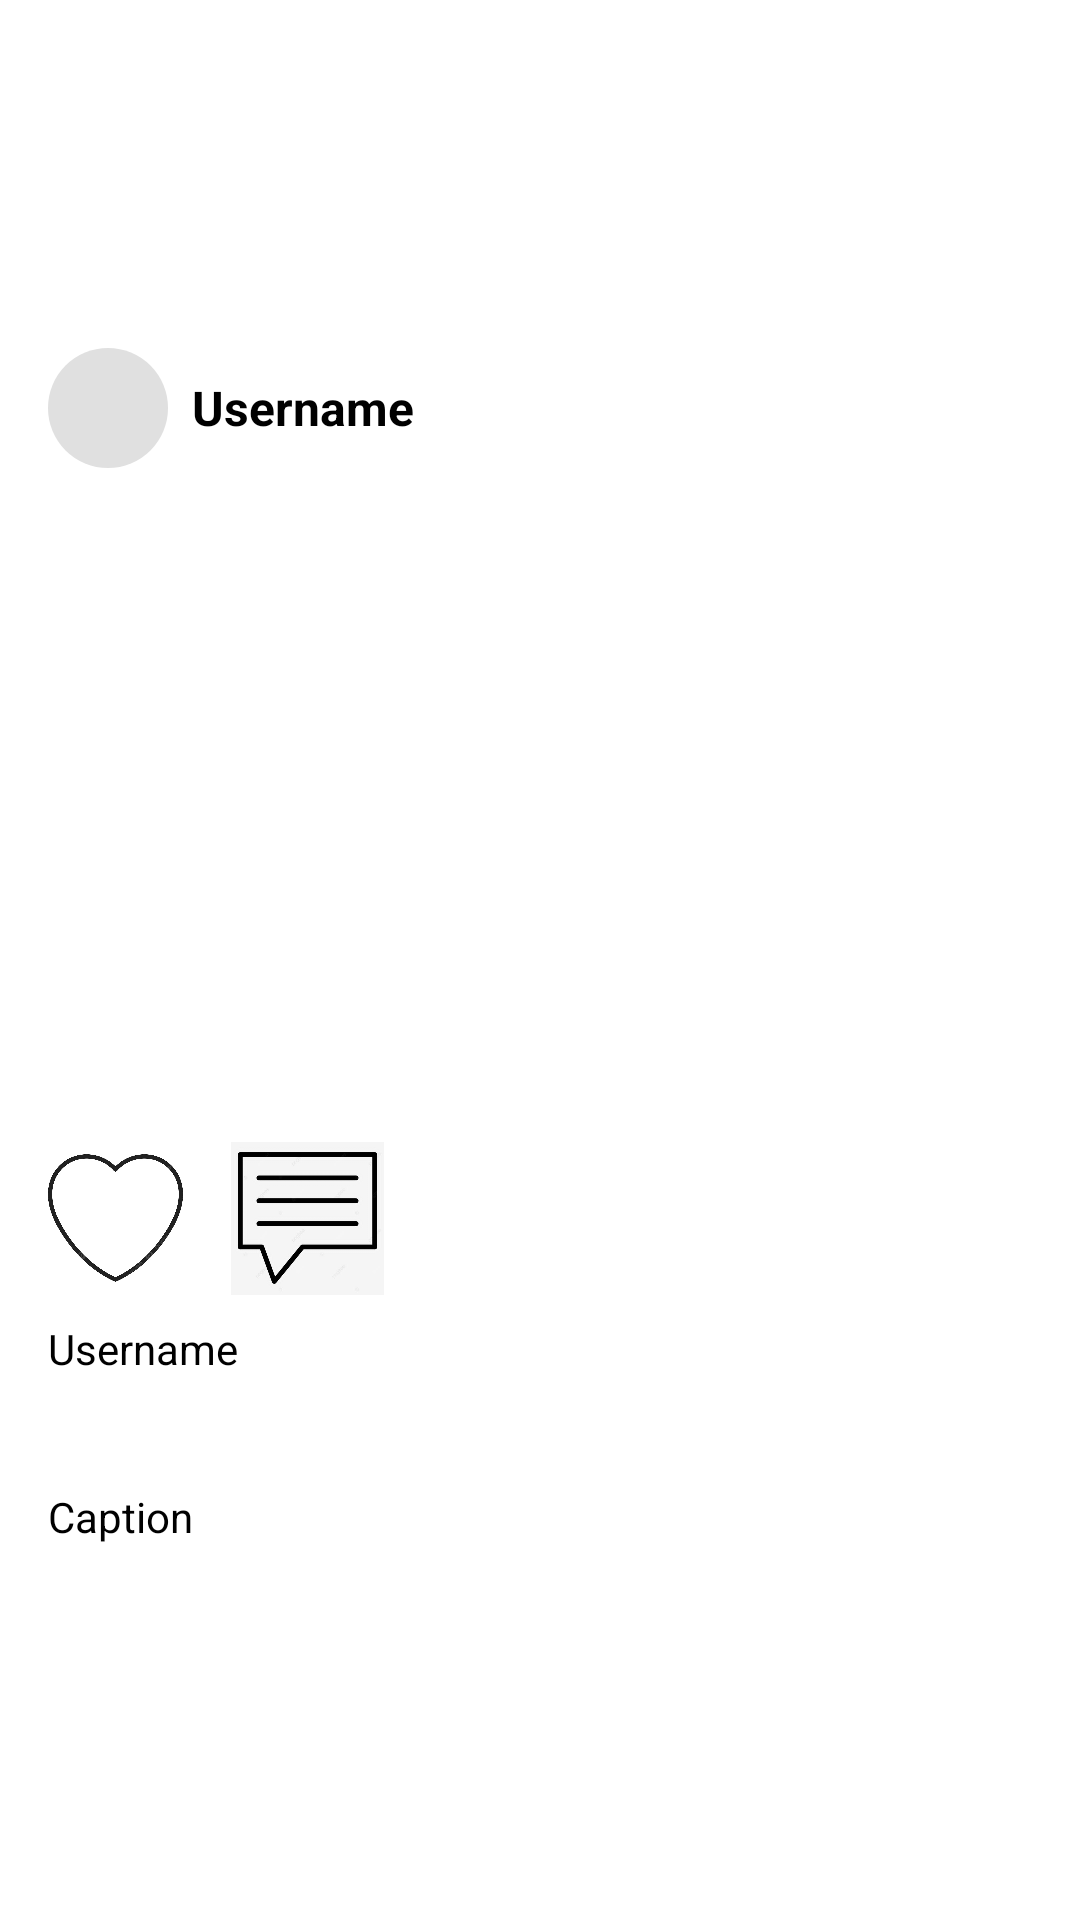

Locate icon controls on the screen. Image size 1080x1920, boxes as rect(x1, y1, x2, y2).
Comment Button: rect(231, 1142, 384, 1295)
Like Button: rect(48, 1154, 183, 1282)
